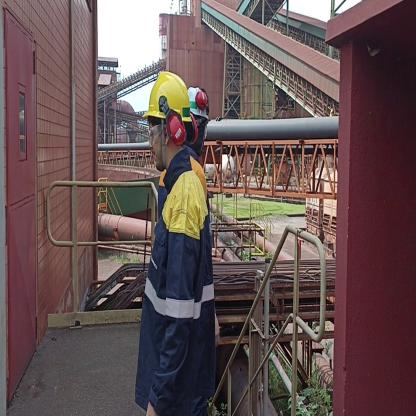C_eletrica: (134, 178, 215, 416)
Capacete: (146, 69, 190, 120)
